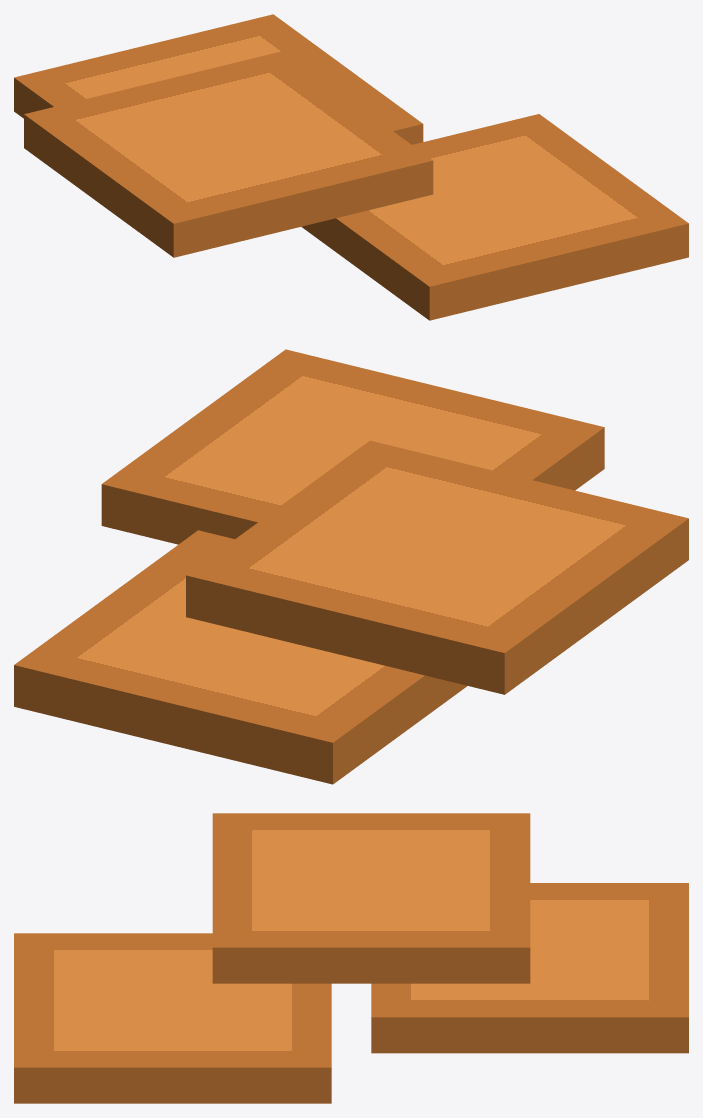
File: Morcovi.fbx
3 renders of one model, top to bottom at view 1: azimuth 30°, elevation 25°; view 2: azimuth 150°, elevation 25°; view 3: azimuth 270°, elevation 25°, orthographic. The views are drawn at different scales.
Visible parts, largest first — view 1: cube, cube_1, cube_2; view 2: cube, cube_2, cube_1; view 3: cube, cube_1, cube_2.
Boxes of the visible parts, x1,y1,x2,y2 form: cube: (24, 51, 433, 257); cube_1: (301, 114, 688, 320); cube_2: (14, 14, 423, 144); cube: (186, 440, 688, 694); cube_2: (14, 530, 467, 784); cube_1: (101, 349, 604, 544); cube: (212, 813, 530, 983); cube_1: (14, 933, 331, 1103); cube_2: (371, 883, 688, 1053).
Bounding box in the file's own units: 81.25 × 12.5 × 106.
1 material, 1 textured.
